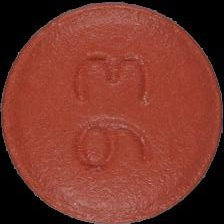67046-641: (0, 0, 224, 224)
